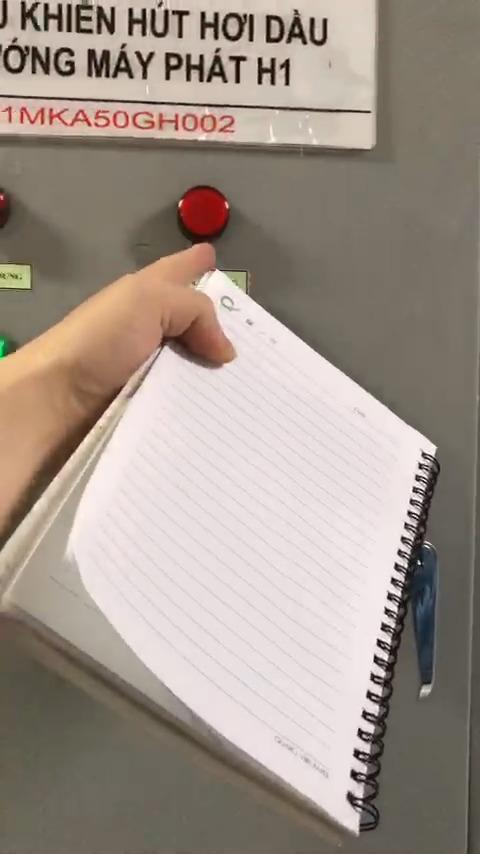led: (172, 182, 233, 240)
